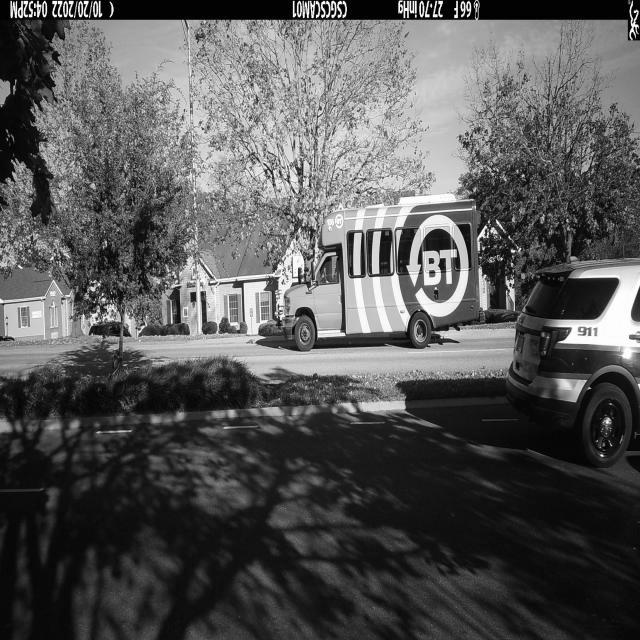Bus- Small: (283, 194, 480, 352)
